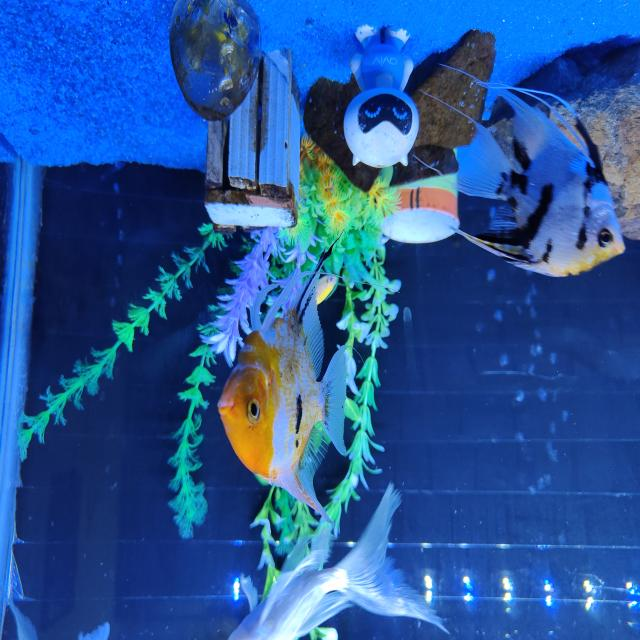Fish: (218, 249, 346, 521), (229, 483, 448, 639), (457, 78, 624, 275), (8, 599, 37, 639), (316, 273, 337, 304)
